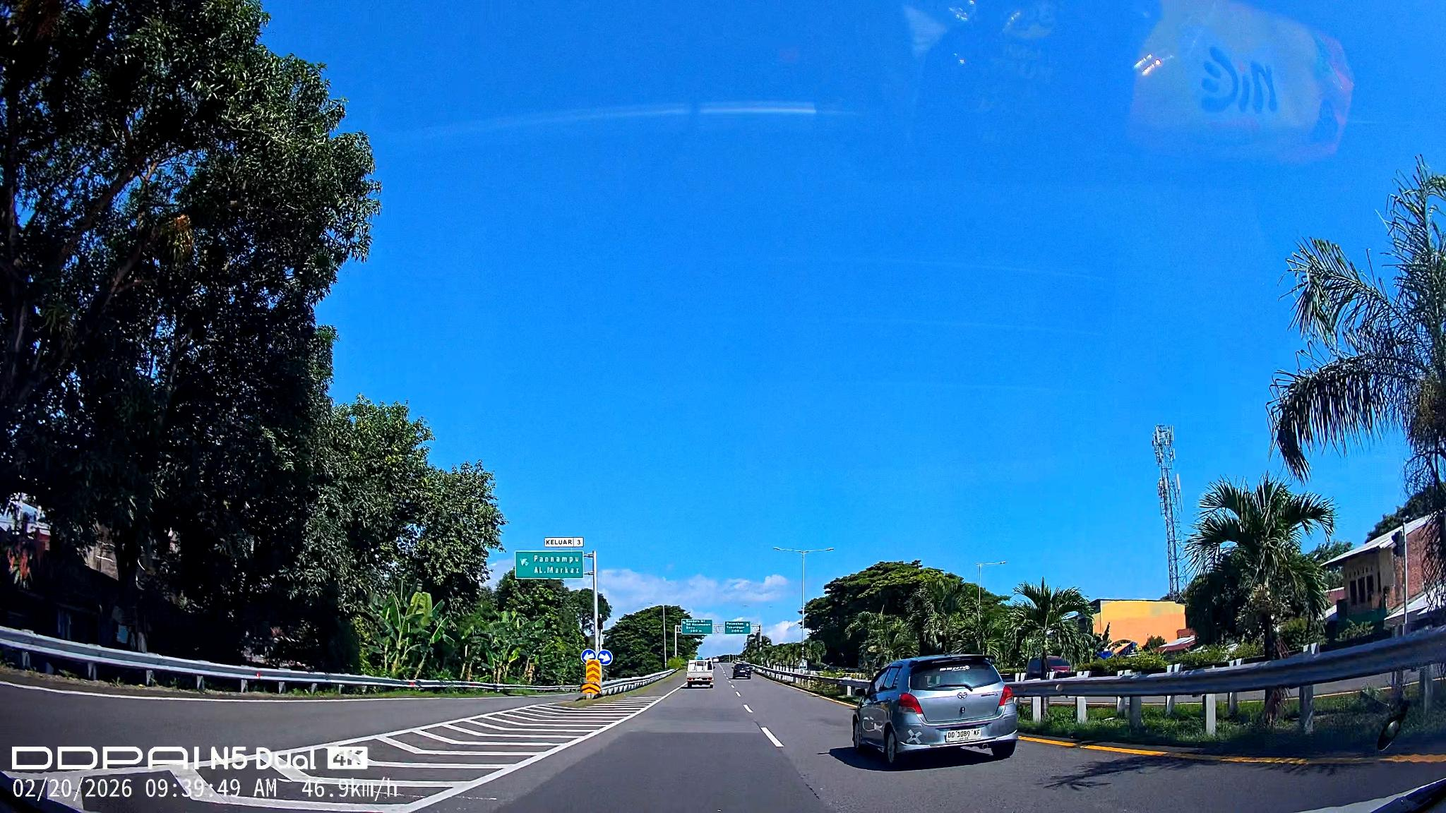rambu_teks: (515, 550, 585, 580)
